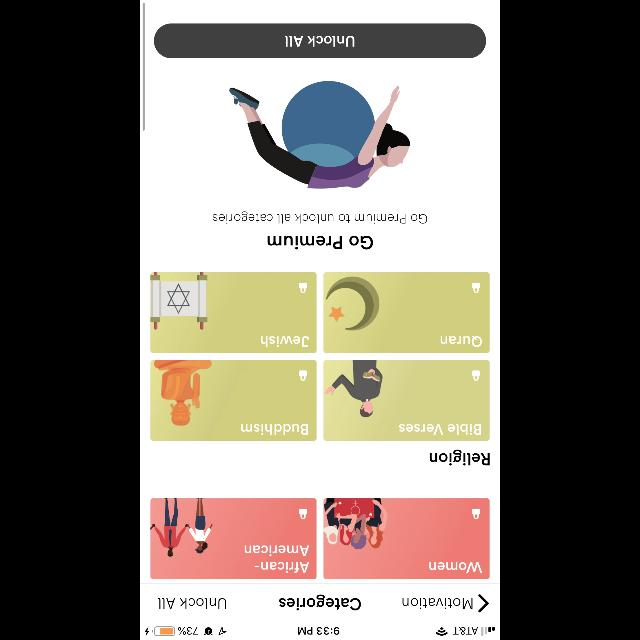icon: (478, 594, 488, 612), (299, 282, 307, 294), (472, 282, 480, 294), (299, 508, 307, 520), (472, 508, 480, 520), (472, 370, 480, 380), (299, 370, 307, 380)
image: (230, 81, 410, 189), (154, 360, 212, 426), (151, 498, 213, 556), (150, 272, 208, 330), (323, 498, 387, 550), (326, 359, 382, 416), (326, 277, 380, 331)
text: (213, 212, 427, 224), (244, 546, 310, 572), (268, 236, 372, 250), (279, 594, 361, 610), (429, 450, 489, 466), (399, 424, 481, 434), (158, 597, 226, 609), (402, 598, 472, 608), (242, 424, 308, 434), (430, 562, 482, 572), (441, 335, 482, 347), (261, 336, 309, 346)
textbutton: (154, 23, 486, 58)
uppertaskbar: (140, 626, 500, 640)
